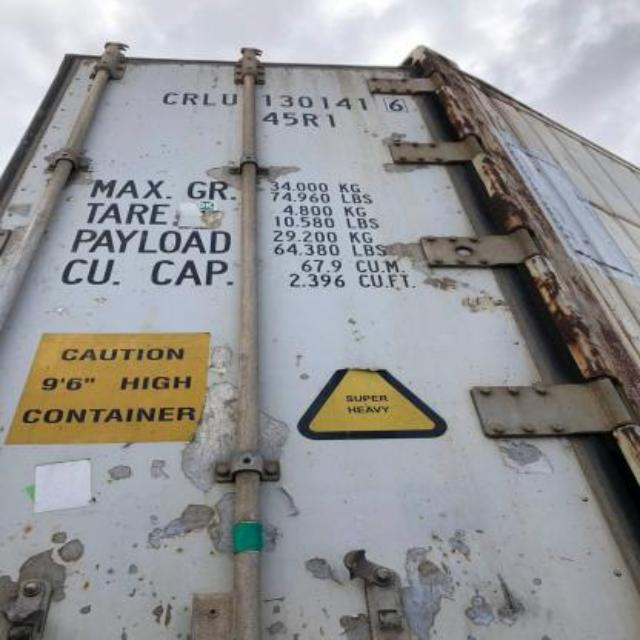0: (296, 88, 312, 108)
1: (357, 85, 373, 111), (317, 90, 333, 112), (262, 90, 274, 110)
3: (276, 88, 292, 108)
4: (334, 89, 356, 115)
6: (383, 94, 412, 114)
C: (164, 86, 180, 108)
L: (202, 84, 218, 110)
R: (182, 85, 198, 111)
U: (220, 84, 240, 112)
